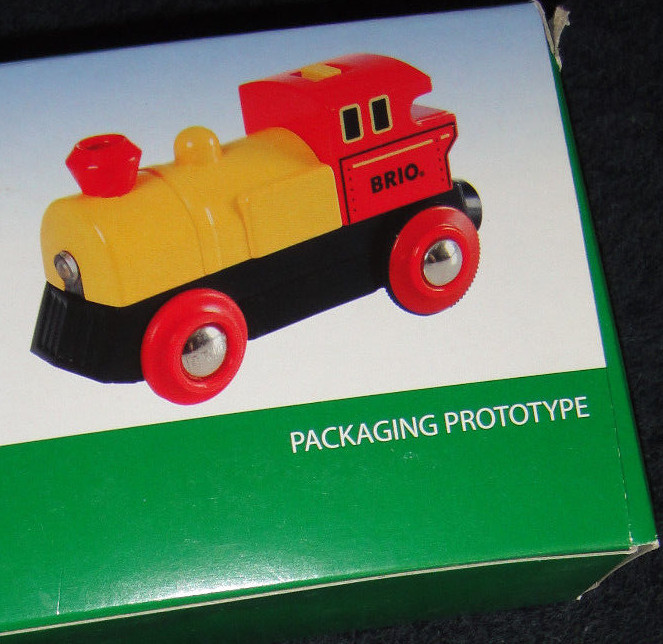brio: (23, 61, 486, 405)
